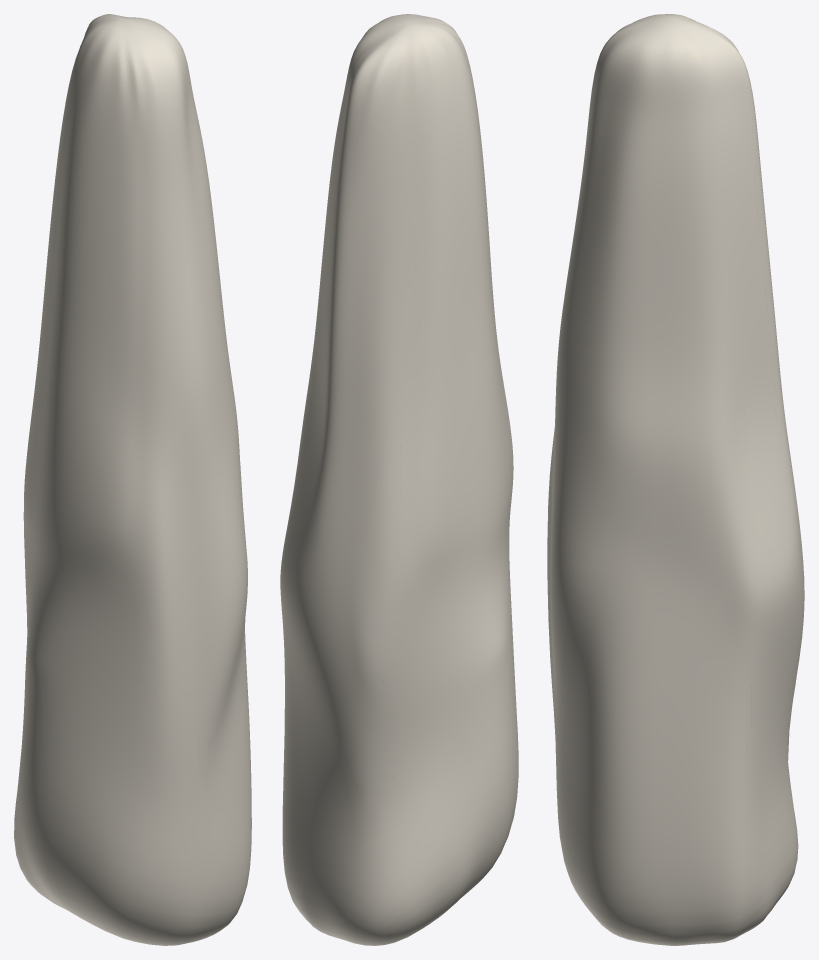
Rendered from leftLowerArm.dae.
The picture shows the model from 3 angles, left to right: view 1: azimuth 30°, elevation 25°; view 2: azimuth 150°, elevation 25°; view 3: azimuth 270°, elevation 25°; orthographic projection. The views are drawn at different scales.
Visible parts, largest first — view 1: HyperNURBS; view 2: HyperNURBS; view 3: HyperNURBS.
Boxes of the visible parts, x1=… form: HyperNURBS: x1=14, y1=14, x2=251, y2=945; HyperNURBS: x1=280, y1=14, x2=518, y2=945; HyperNURBS: x1=547, y1=14, x2=804, y2=945.
Size of the model in its own units: 44.18 by 192 by 49.97.
Materials: 1 (1 with a texture image).
